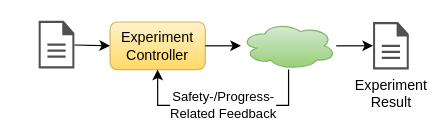
Some shapes in this 447 by 140 pixel diagram are drawn without their labels. The shapes that lost their labels are listed below. From the top down, each one's box as (x1, y1, x2, y2) in pixels, then its label:
(38, 20, 74, 68): Experiment Plan
(240, 21, 336, 70): Grid Simulation
